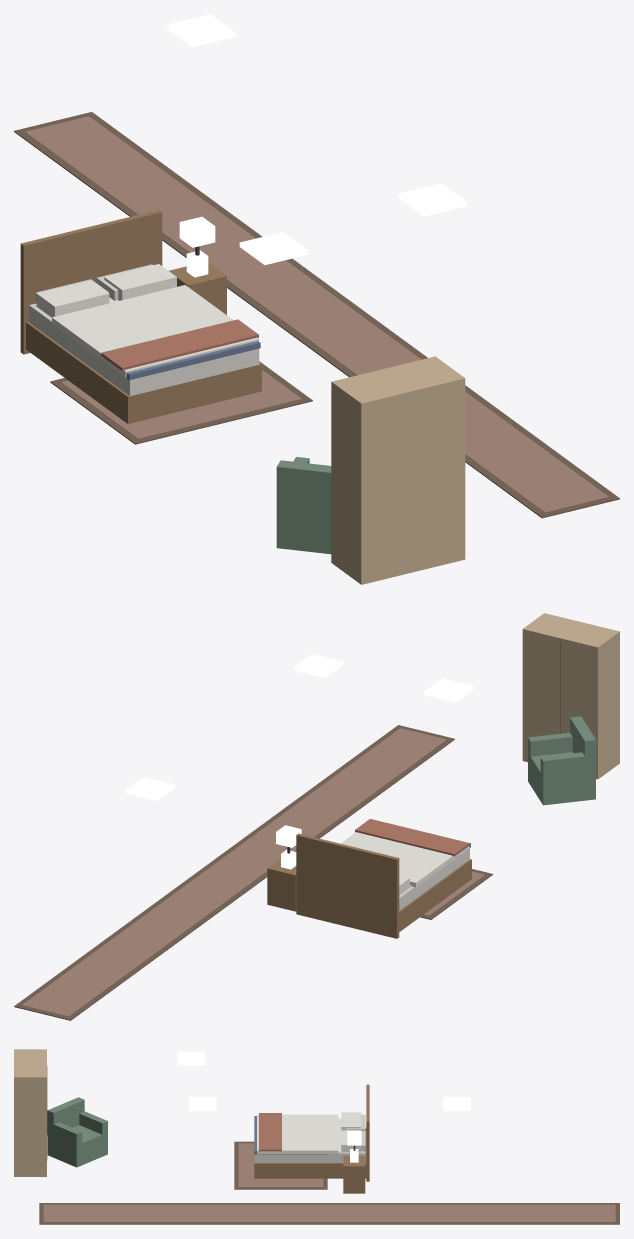
Rendered from fine-s2.glb.
The picture shows the model from 3 angles, top to bottom: view 1: azimuth 30°, elevation 25°; view 2: azimuth 150°, elevation 25°; view 3: azimuth 270°, elevation 25°; orthographic projection. The views are drawn at different scales.
Visible parts, largest first — view 1: soft-s2, dresser.001, bed-frame.001, lounge-chair.001, nightstand.001, ceiling-lamp.006, ceiling-lamp.005, ceiling-lamp.007; view 2: soft-s2, dresser.001, bed-frame.001, lounge-chair.001, nightstand.001, ceiling-lamp.005, ceiling-lamp.007, ceiling-lamp.006; view 3: soft-s2, dresser.001, lounge-chair.001, bed-frame.001, nightstand.001, ceiling-lamp.007, ceiling-lamp.006, ceiling-lamp.005.
Boxes of the visible parts, left/top/right/bottom form: soft-s2: left=14, top=112, right=619, bottom=518; dresser.001: left=331, top=356, right=465, bottom=584; bed-frame.001: left=20, top=210, right=261, bottom=423; lounge-chair.001: left=276, top=457, right=331, bottom=554; nightstand.001: left=169, top=250, right=226, bottom=314; ceiling-lamp.006: left=398, top=183, right=466, bottom=216; ceiling-lamp.005: left=167, top=14, right=235, bottom=47; ceiling-lamp.007: left=239, top=232, right=307, bottom=265; soft-s2: left=14, top=725, right=493, bottom=1020; dresser.001: left=522, top=613, right=619, bottom=779; bed-frame.001: left=296, top=833, right=471, bottom=938; lounge-chair.001: left=528, top=716, right=596, bottom=805; nightstand.001: left=267, top=849, right=296, bottom=911; ceiling-lamp.005: left=125, top=777, right=175, bottom=800; ceiling-lamp.007: left=424, top=678, right=473, bottom=702; ceiling-lamp.006: left=294, top=654, right=343, bottom=677; soft-s2: left=39, top=1112, right=619, bottom=1224; dresser.001: left=14, top=1049, right=47, bottom=1176; lounge-chair.001: left=47, top=1097, right=107, bottom=1167; bed-frame.001: left=254, top=1084, right=369, bottom=1181; nightstand.001: left=343, top=1149, right=365, bottom=1193; ceiling-lamp.007: left=177, top=1051, right=204, bottom=1065; ceiling-lamp.006: left=188, top=1097, right=216, bottom=1110; ceiling-lamp.005: left=443, top=1097, right=470, bottom=1110.
Bounding box in the file's own units: 3.55 × 2.24 × 11.02.
